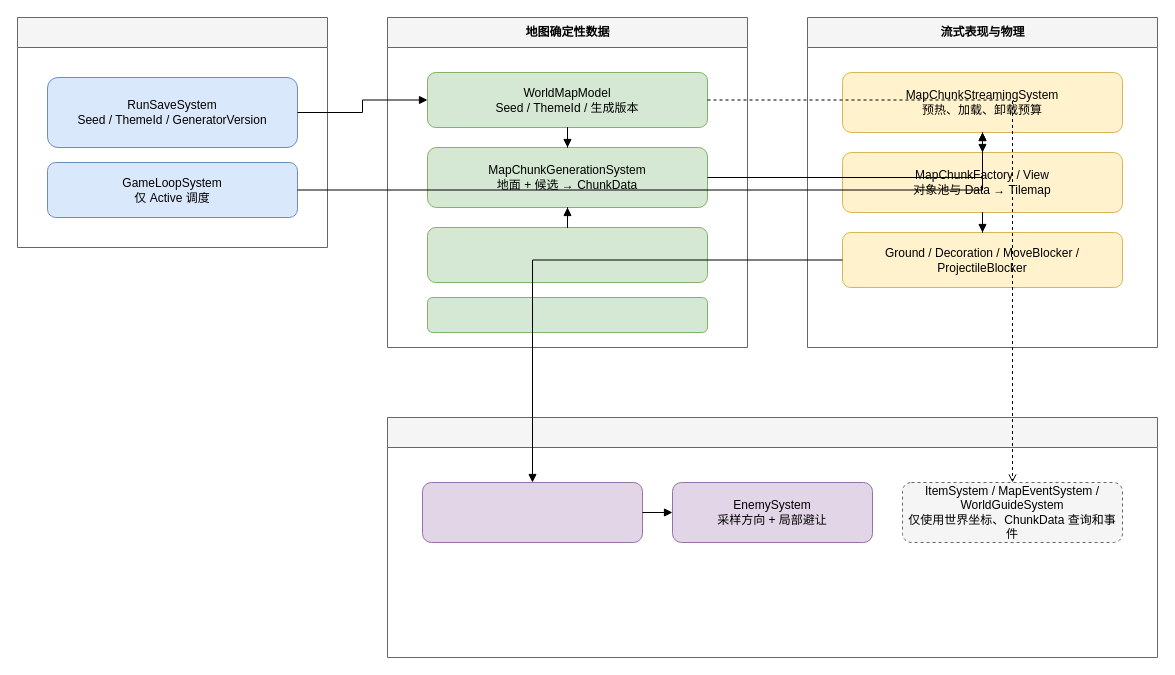
Image size: 1175x675. Some labels were removed from this diagram. Each missing label, with the box of its shape:
MapNavigationSystem 共享流场 / 阻挡膨胀: (422, 482, 642, 542)
MapObstacleTemplateConfig 形状 / 权重 / 阻挡规则: (426, 226, 708, 282)
导航与外部模块: (386, 416, 1158, 658)
运行与存档: (16, 16, 328, 248)
防封闭校验 候选投放 / 缓冲区 / Flood Fill: (426, 296, 708, 332)
